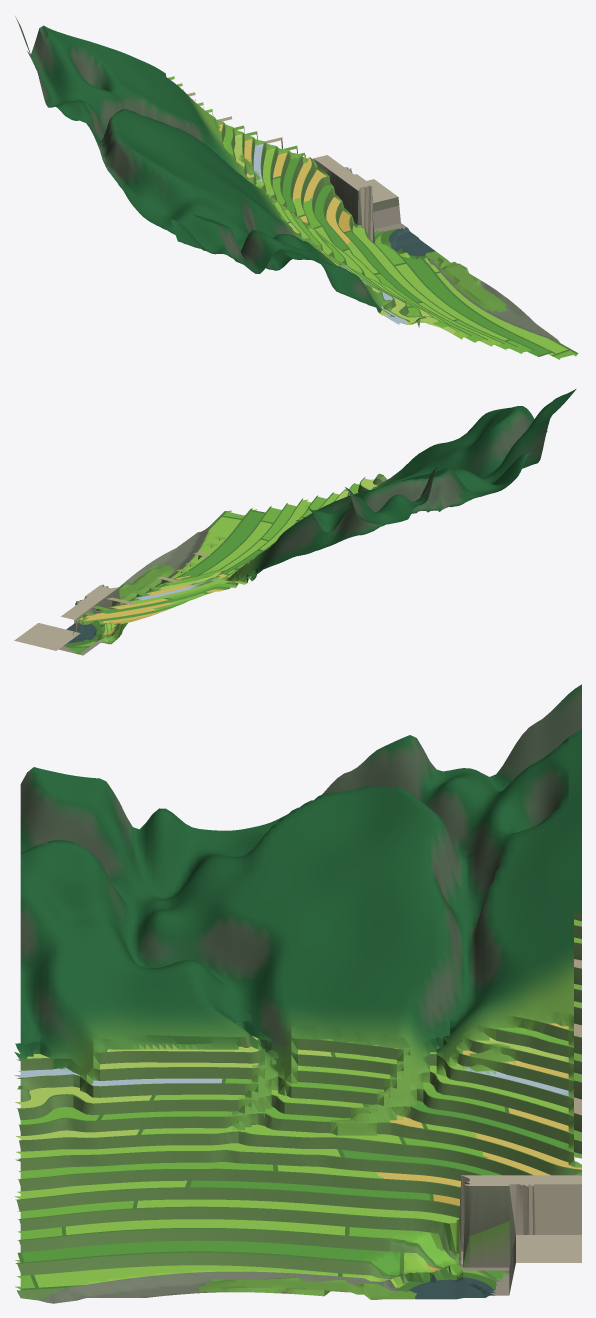
File: payo_land_x0_y0.glb
3 views of the same model, one above another, from view 1: azimuth 30°, elevation 25°; view 2: azimuth 150°, elevation 25°; view 3: azimuth 270°, elevation 25° (orthographic). The views are drawn at different scales.
Parts seen in each view (by area): view 1: payo_land_x0_y0; view 2: payo_land_x0_y0; view 3: payo_land_x0_y0.
Part boxes in pixels (left/top/right/bottom): payo_land_x0_y0: left=15, top=16, right=578, bottom=359; payo_land_x0_y0: left=14, top=389, right=576, bottom=655; payo_land_x0_y0: left=14, top=684, right=581, bottom=1303.
Size of the model in its own units: 255 by 192 by 258.
